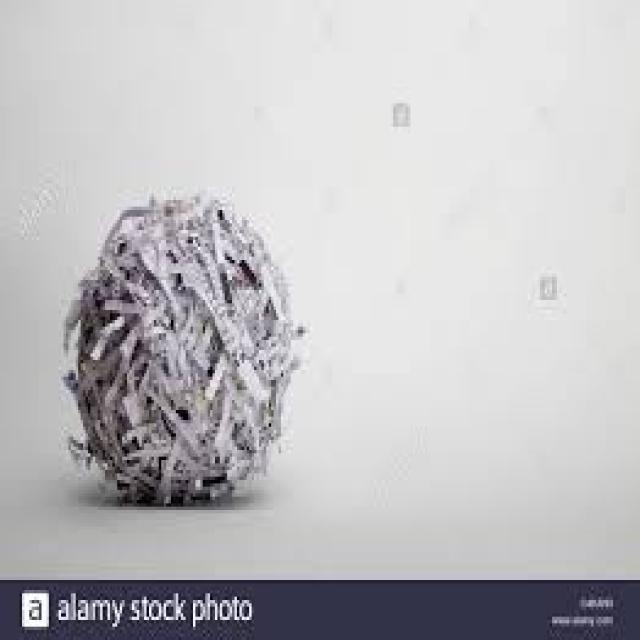Paper: (71, 192, 299, 496)
